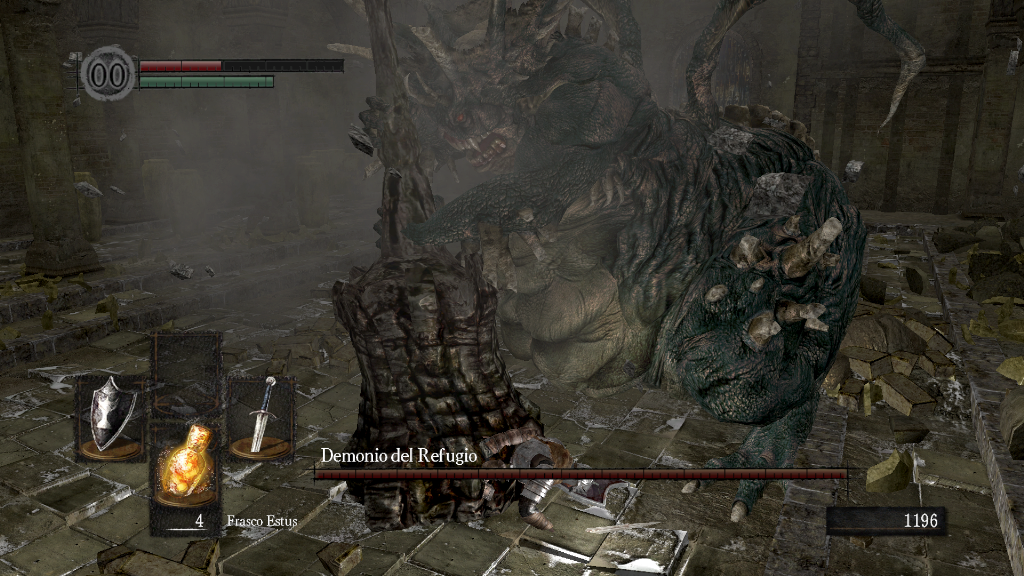asylumDemon: (326, 1, 929, 531)
bossHP: (314, 469, 847, 479)
health: (138, 58, 343, 71)
humanity: (80, 45, 136, 102)
player: (512, 436, 630, 531)
souls: (825, 506, 945, 536)
stamina: (138, 74, 274, 88)
